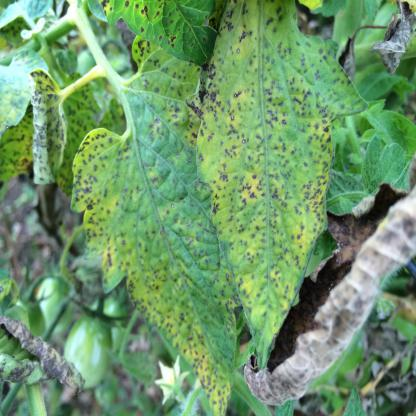tomato septoria leaf spot: (50, 53, 246, 406), (196, 4, 352, 384)
